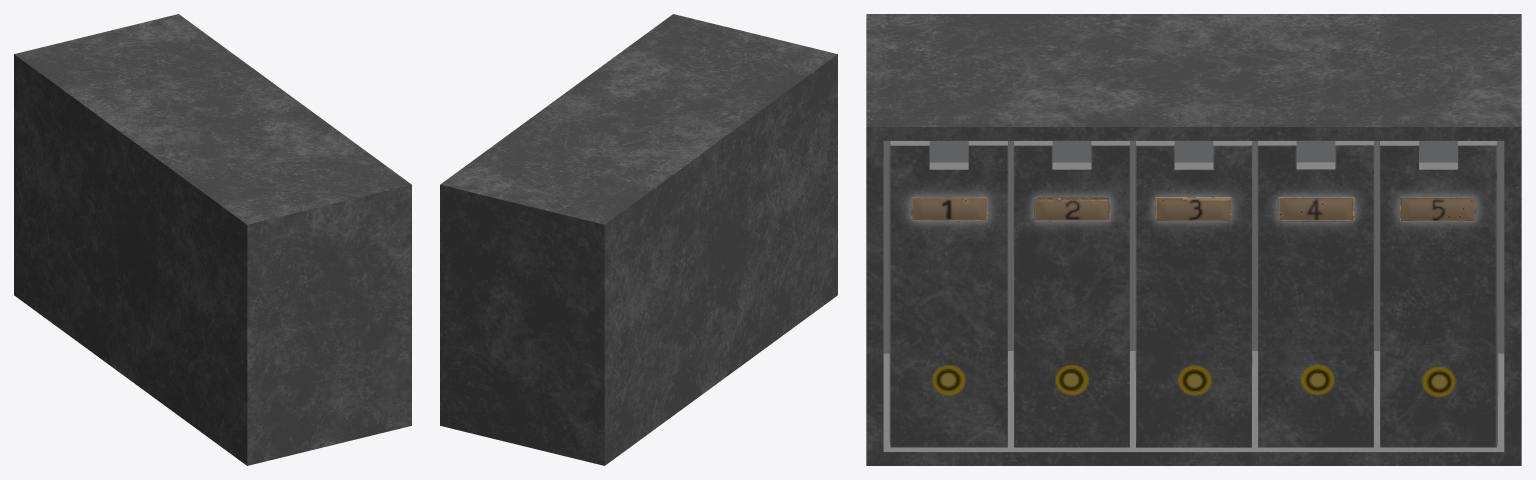
Rendered from skrzynka.fbx.
3 renders of one model, left to right at view 1: azimuth 30°, elevation 25°; view 2: azimuth 150°, elevation 25°; view 3: azimuth 270°, elevation 25°, orthographic. The views are drawn at different scales.
Parts seen in each view (by area): view 1: Cube; view 2: Cube; view 3: Cube, Cube.001.
Boxes of the visible parts, x1,y1,x2,y2 form: Cube: (14,14,411,465); Cube: (440,14,837,465); Cube: (866,14,1521,465); Cube.001: (1257,141,1374,447).
Size of the model in its own units: 57.69 by 79.81 by 140.
Materials: 1 (1 with a texture image).
